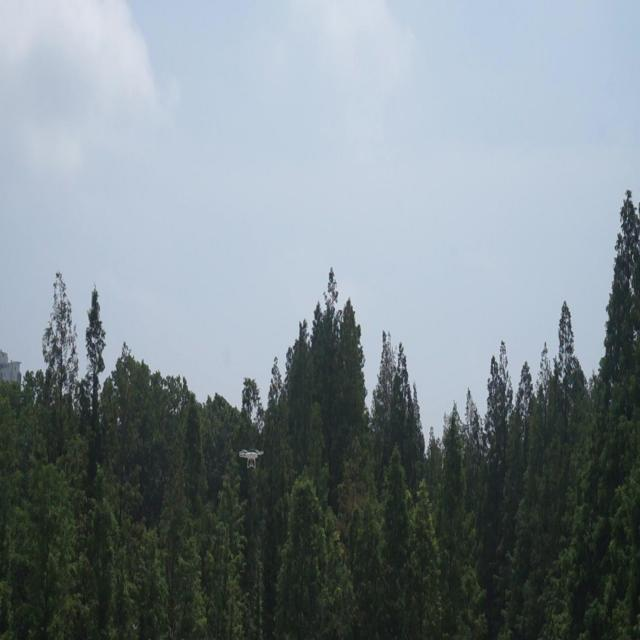UAV: (239, 450, 264, 469)
